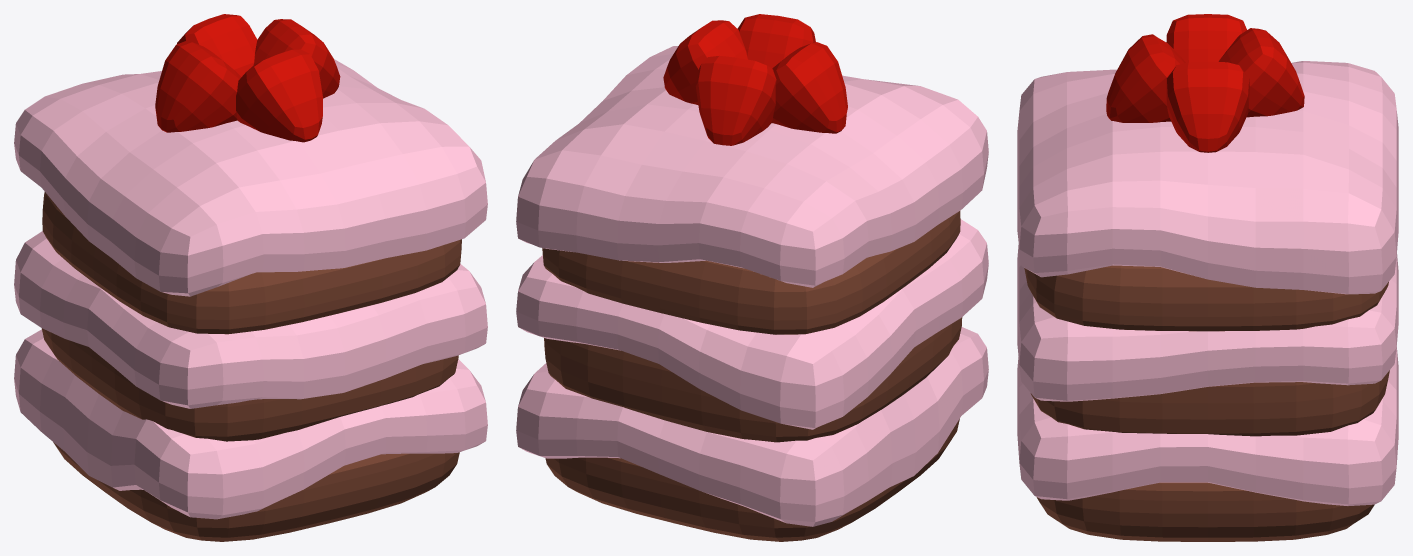
The model's file is Pastel_de_fresas.glb.
3 views of the same model, side by side, from view 1: azimuth 30°, elevation 25°; view 2: azimuth 150°, elevation 25°; view 3: azimuth 270°, elevation 25° (orthographic).
Visible parts, largest first — view 1: Cubo.005, Cubo.004, Cubo.003, Cubo.002, Cubo.001, Cubo, Cubo.010, Cubo.008, Cubo.007, Cubo.009; view 2: Cubo.005, Cubo.003, Cubo.004, Cubo.002, Cubo.001, Cubo, Cubo.009, Cubo.008, Cubo.007, Cubo.010; view 3: Cubo.005, Cubo.003, Cubo.004, Cubo.002, Cubo.001, Cubo, Cubo.007, Cubo.010, Cubo.009, Cubo.008.
Part boxes in pixels (left/top/right/bottom): Cubo.005: left=14, top=59, right=487, bottom=296; Cubo.004: left=14, top=231, right=487, bottom=408; Cubo.003: left=14, top=329, right=487, bottom=519; Cubo.002: left=42, top=192, right=461, bottom=334; Cubo.001: left=41, top=328, right=458, bottom=441; Cubo: left=53, top=442, right=459, bottom=541; Cubo.010: left=236, top=49, right=322, bottom=142; Cubo.008: left=155, top=41, right=241, bottom=132; Cubo.007: left=253, top=19, right=340, bottom=98; Cubo.009: left=177, top=14, right=257, bottom=76; Cubo.005: left=516, top=46, right=988, bottom=287; Cubo.003: left=516, top=327, right=988, bottom=526; Cubo.004: left=516, top=219, right=988, bottom=429; Cubo.002: left=542, top=211, right=960, bottom=334; Cubo.001: left=544, top=317, right=962, bottom=442; Cubo: left=545, top=419, right=959, bottom=541; Cubo.009: left=695, top=55, right=776, bottom=145; Cubo.008: left=772, top=42, right=847, bottom=133; Cubo.007: left=663, top=20, right=747, bottom=104; Cubo.010: left=737, top=14, right=815, bottom=68; Cubo.005: left=1017, top=61, right=1398, bottom=294; Cubo.003: left=1017, top=346, right=1398, bottom=505; Cubo.004: left=1017, top=244, right=1398, bottom=401; Cubo.002: left=1024, top=265, right=1388, bottom=331; Cubo.001: left=1030, top=370, right=1389, bottom=436; Cubo: left=1036, top=482, right=1374, bottom=541; Cubo.007: left=1166, top=61, right=1249, bottom=152; Cubo.010: left=1106, top=34, right=1185, bottom=122; Cubo.009: left=1218, top=28, right=1304, bottom=117; Cubo.008: left=1166, top=14, right=1246, bottom=62.
Size of the model in its own units: 2.96 by 3.84 by 2.96.
